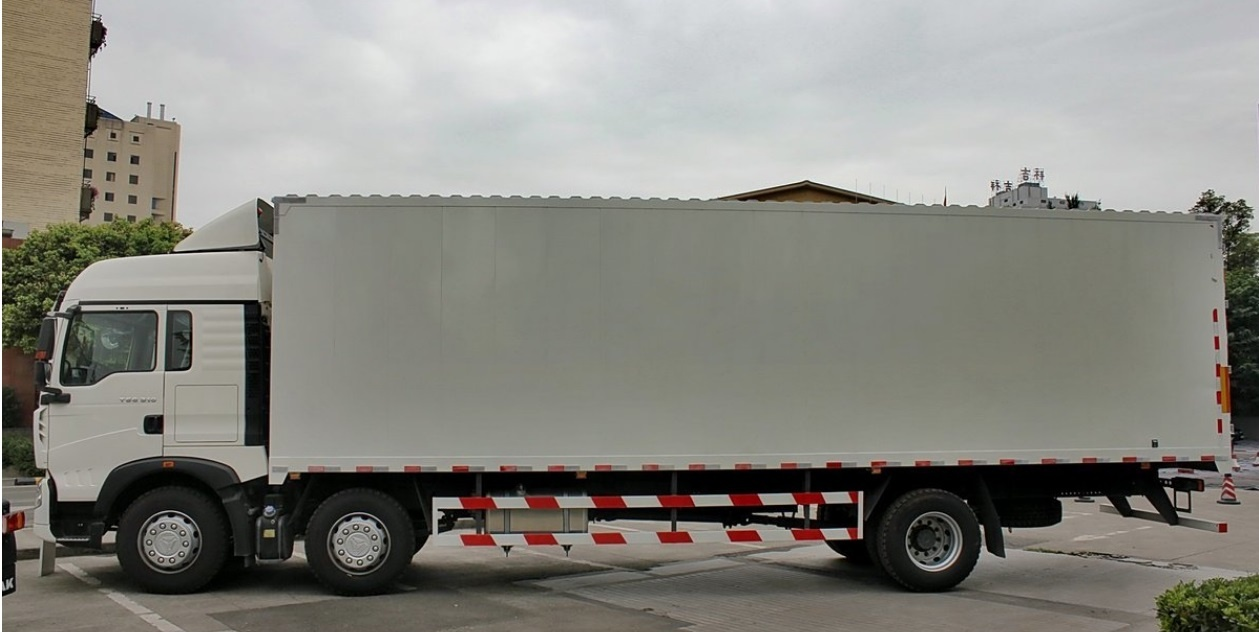heavy truck: (56, 178, 1232, 575)
